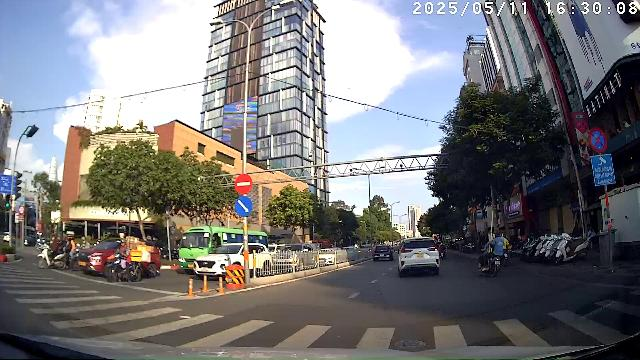102-cam-di-nguoc-chieu: (235, 173, 253, 194)
130-cam-dung-va-do-xe: (588, 128, 608, 152)
302a-huong-phai-di-vong-chuong-ngai-vat-1: (234, 195, 252, 216)
